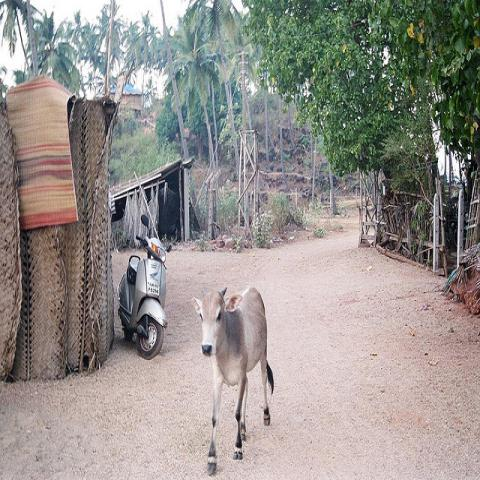motorcycle: (115, 216, 172, 362)
